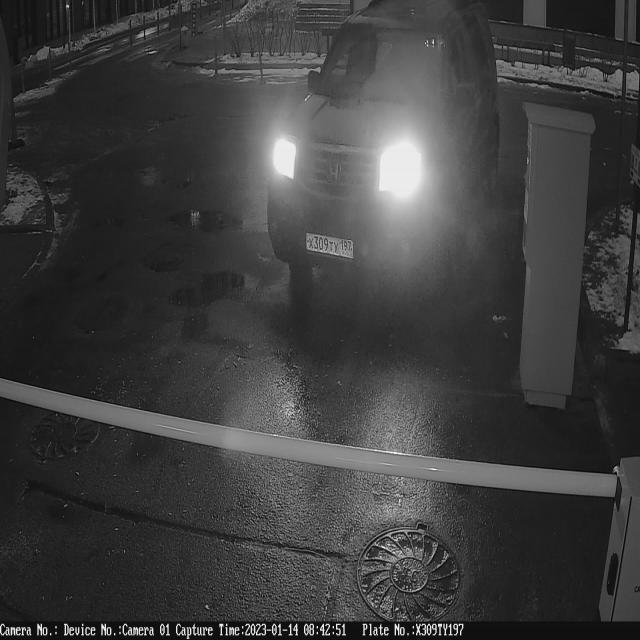car-plate-numbers: (305, 228, 357, 265)
